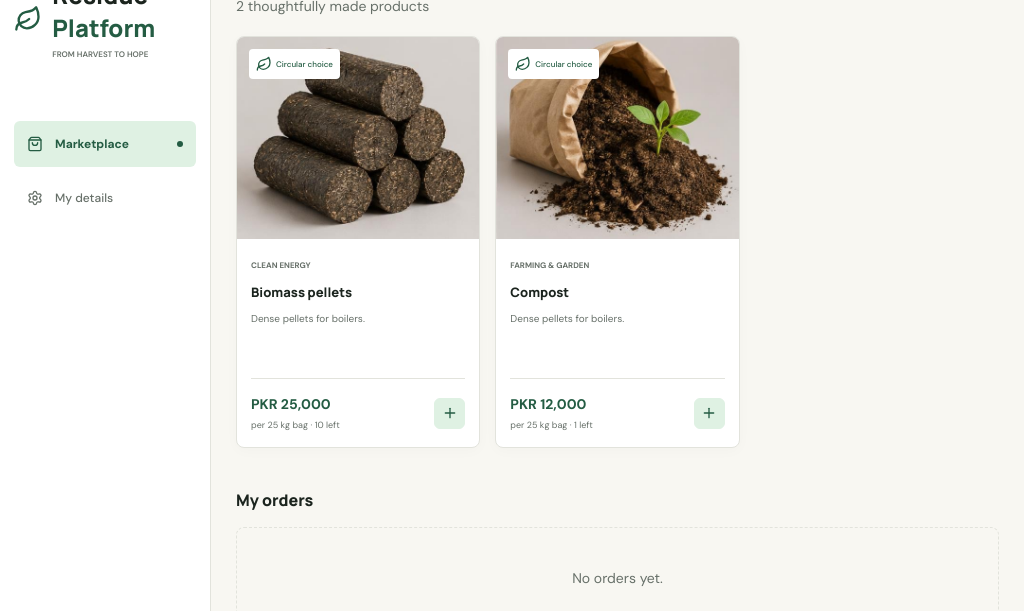
Scenario: marketplace › the cart cannot hold more than the stock
(page scrolled)
Click the button named "Add Compost to cart".
click(709, 414)  # box [694,398,725,429]
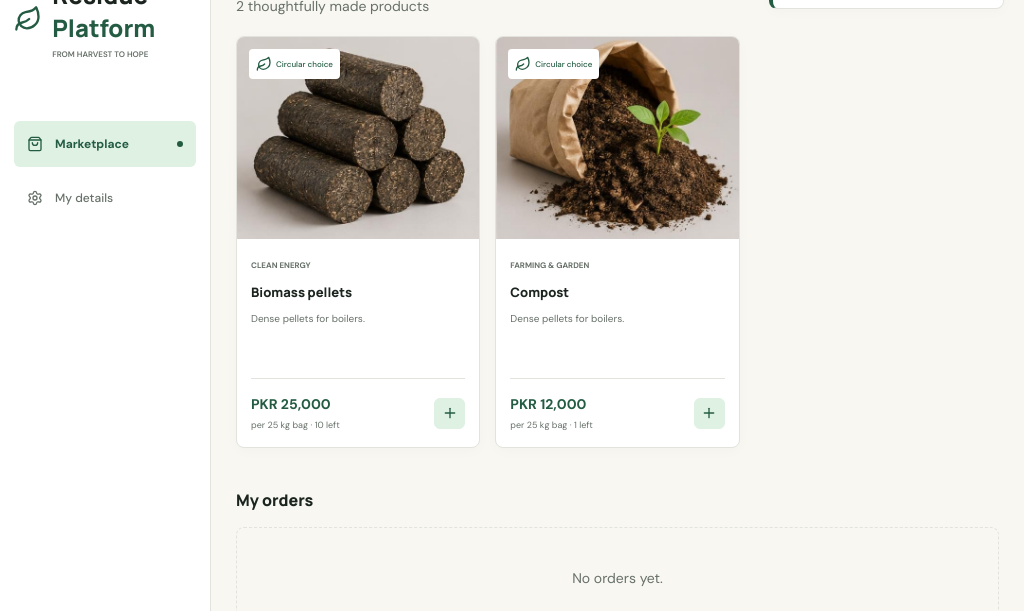
Click the button named "Add Compost to cart".
click(709, 414)  # box [694,398,725,429]
(page scrolled)
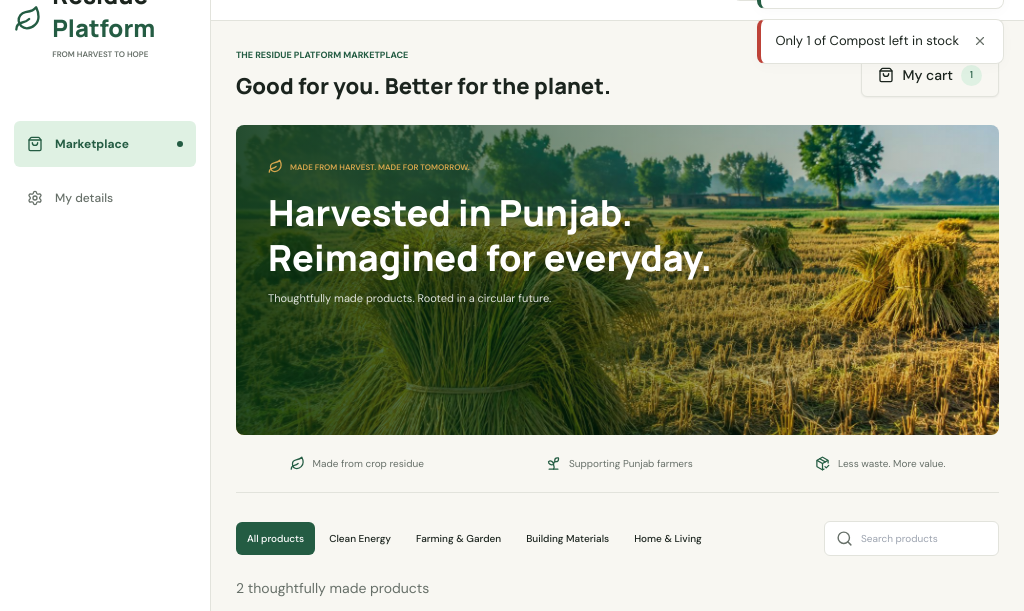
Now the text "Only 1 of Compost left in stock" is shown, box [775,32,959,51]
Click the button "My cart 1".
click(930, 75)  # box [862,53,999,97]
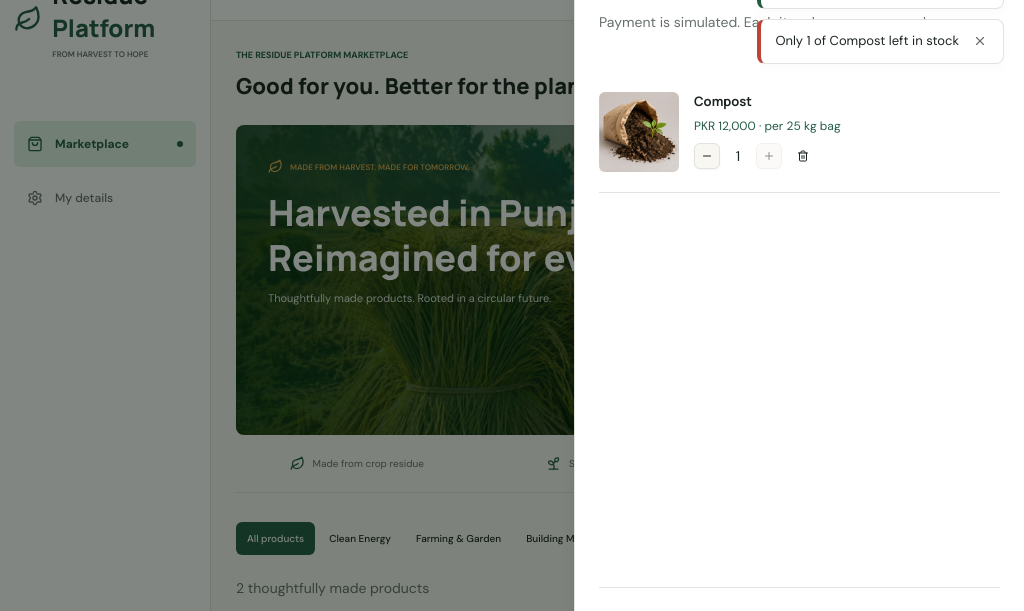
Now the button named "Increase Compost" is disabled, box [756,142,782,168]
